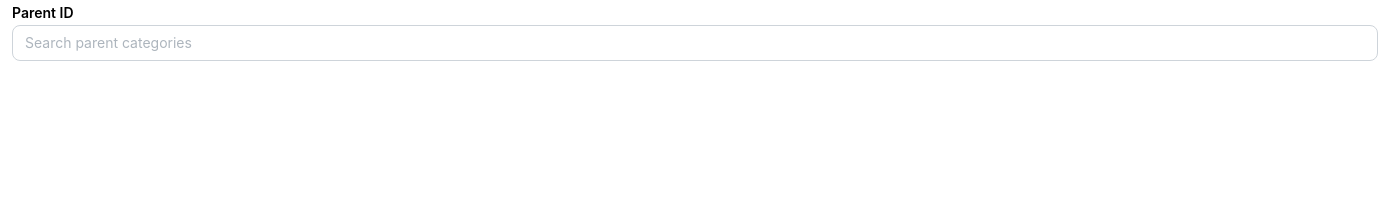
Scenario: CategoryParentPicker › shows loading, retry, root-only, and load-more states
Click the dropdown labelled "Parent ID".
click(695, 43)  # box 12,25 -> 1378,61
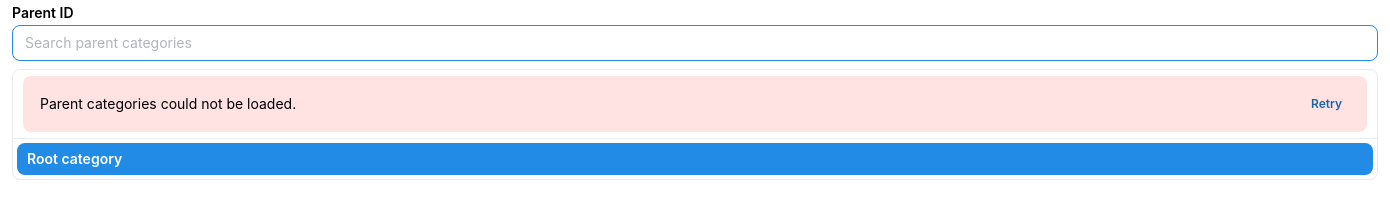
Result: the text "Parent categories could not be loaded." is shown at 40,94 -> 296,114
Click the button "Retry".
click(1326, 104)  # box 1303,93 -> 1350,115
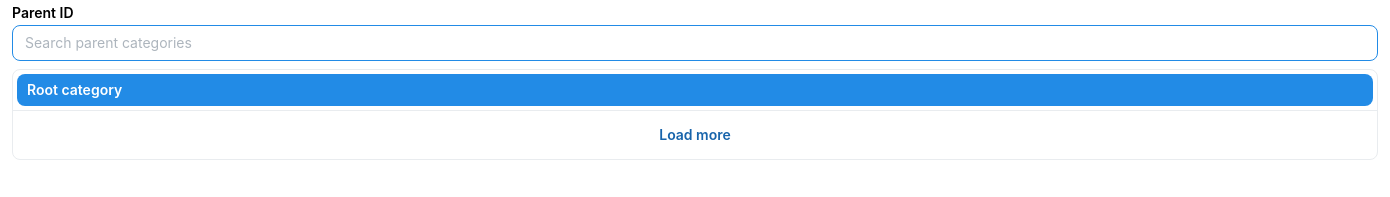
Result: the option "Root category" is shown at 17,74 -> 1373,106
Click the button "Load more".
click(695, 135)  # box 23,117 -> 1367,153
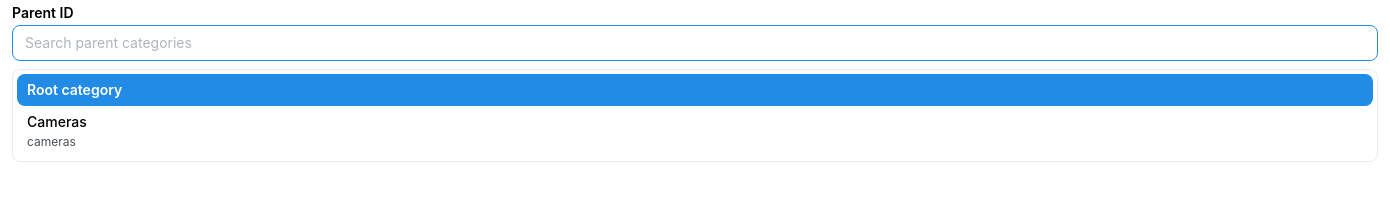
Result: the option "Cameras cameras" is shown at 27,113 -> 87,149
